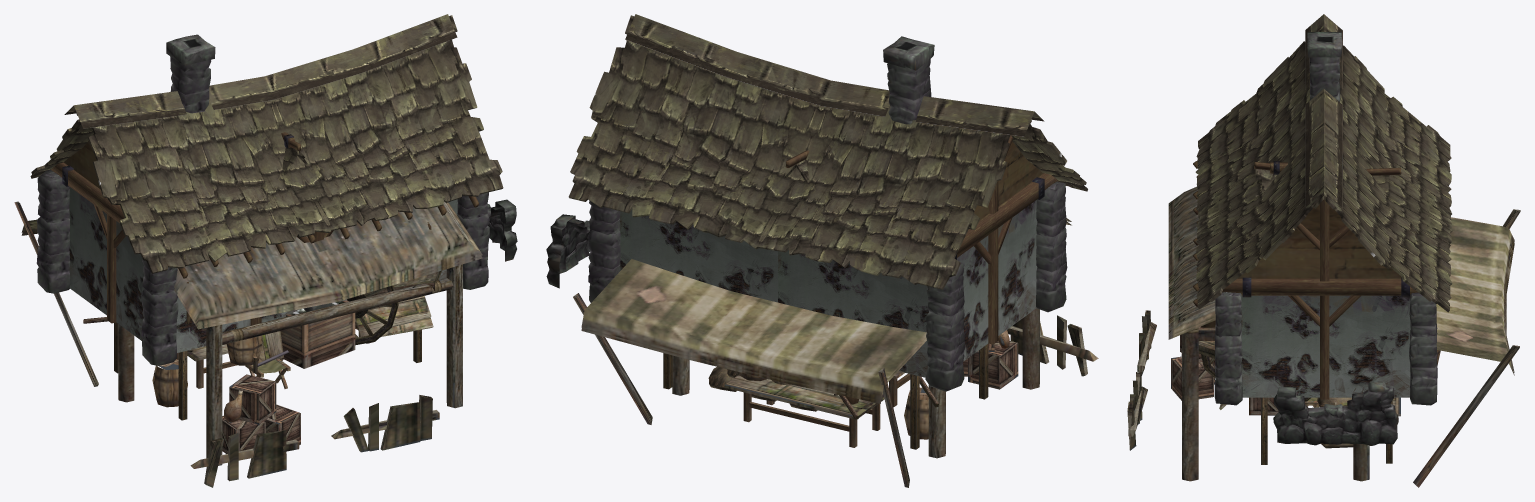
The model's file is Jianzu.fbx.
The picture shows the model from 3 angles, left to right: view 1: azimuth 30°, elevation 25°; view 2: azimuth 150°, elevation 25°; view 3: azimuth 270°, elevation 25°; orthographic projection. The views are drawn at different scales.
Parts seen in each view (by area): view 1: Jianzu_07, Jianzu_16, Jianzu_14, Jianzu_13, Jianzu_15, Jianzu_10; view 2: Jianzu_07, Jianzu_16, Jianzu_15, Jianzu_10; view 3: Jianzu_07, Jianzu_16, Jianzu_10, Jianzu_15, Jianzu_00, Jianzu_13, Jianzu_14.
Boxes of the visible parts, x1,y1,x2,y2 form: Jianzu_07: (30,14,503,365); Jianzu_16: (14,201,482,487); Jianzu_14: (226,296,433,368); Jianzu_13: (83,270,441,345); Jianzu_15: (114,322,421,420); Jianzu_10: (487,199,517,261); Jianzu_07: (568,14,1087,391); Jianzu_16: (573,218,1098,487); Jianzu_15: (663,344,988,449); Jianzu_10: (546,214,590,288); Jianzu_07: (1193,14,1453,405); Jianzu_16: (1127,186,1520,487); Jianzu_10: (1273,382,1398,445); Jianzu_15: (1261,397,1392,464); Jianzu_00: (1254,162,1401,196); Jianzu_13: (1198,341,1310,401); Jianzu_14: (1213,350,1440,415).
Bounding box in the file's own units: 55.74 × 46.12 × 46.04.
